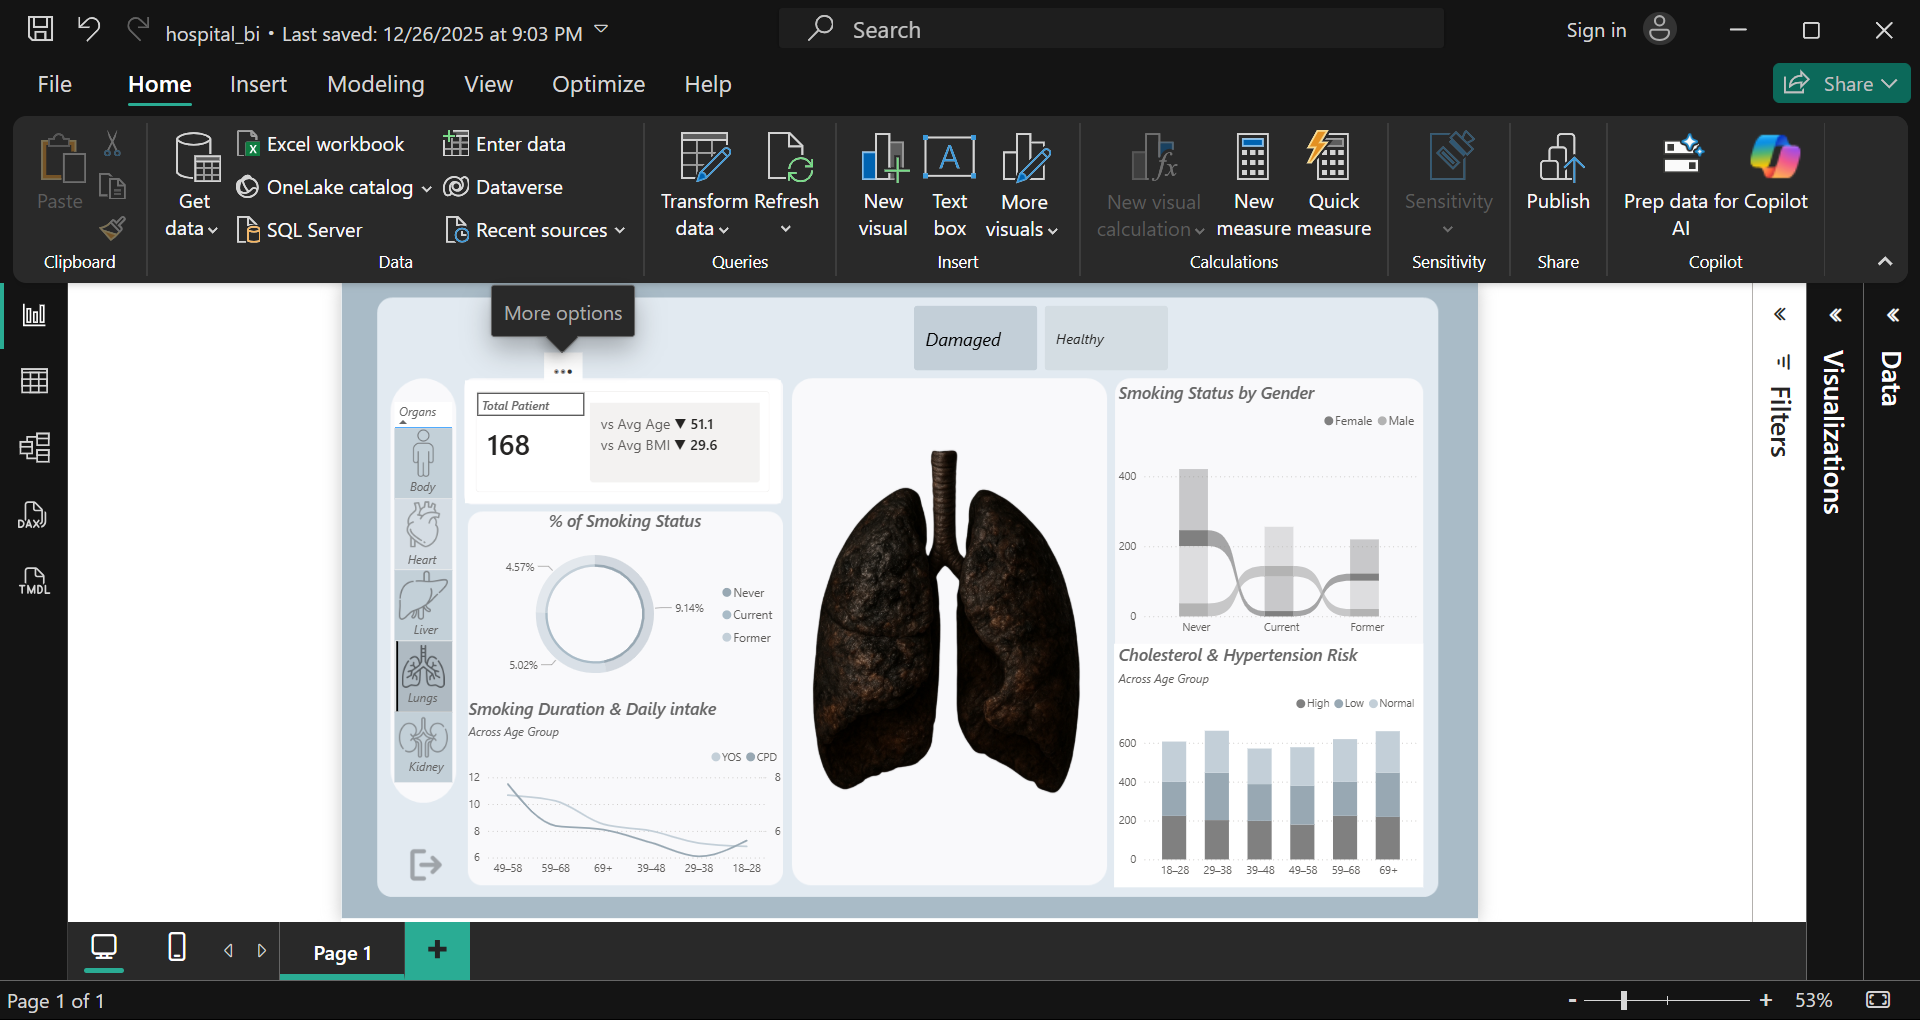

This screenshot's page, from the dashboard's own definition file:
{"tool":"powerbi","page":{"name":"Page 1","canvas":[1280,720],"ordinal":0},"visuals":[{"type":"cardVisual","fields":{"Data":["CountNonNull(health_dataset.Patient_ID)"]},"box":[134.2,104.1,365.7,148.1],"z":0},{"type":"textbox","box":[152.7,122.7,120.3,27.8],"z":1000},{"type":"advancedSlicerVisual","fields":{"Values":["condition.Organ_Condition"]},"box":[641.1,20.8,296.2,83.3],"z":2000},{"type":"tableEx","title":"Smoking Duration & Daily intake","fields":{"Values":["Organs.Icon_URL"]},"box":[55,128.6,71.4,439.3],"z":3000},{"type":"image","box":[499.9,104.9,363.2,574.8],"z":4000},{"type":"donutChart","title":"% of  Smoking Status","fields":{"Category":["health_dataset.Smoking_Status"],"Y":["CountNonNull(health_dataset.Smoking_Status)"]},"box":[138,254,362,212],"z":5000},{"type":"lineChart","title":"Smoking Duration & Daily intake","fields":{"Category":["health_dataset.Age Group"],"Y":["Avg(health_dataset.Years_of_Smoking)"],"Y2":["Avg(health_dataset.Cigarettes_Per_Day)"]},"box":[138,466,362,212],"z":6000},{"type":"ribbonChart","title":"Smoking Status by Gender","fields":{"Category":["health_dataset.Smoking_Status"],"Y":["CountNonNull(health_dataset.Patient_ID)"],"Series":["health_dataset.Gender"]},"box":[870,110,348,296],"z":7000},{"type":"columnChart","title":"Cholesterol & Hypertension Risk","fields":{"Category":["health_dataset.Age Group"],"Y":["Avg(health_dataset.Cholesterol_Level)"],"Series":["health_dataset.BP_Risk"]},"box":[870,406,348,274],"z":8000},{"type":"textbox","box":[66,216,52.8,27.8],"z":9000},{"type":"textbox","box":[70,298.6,44,29],"z":9001},{"type":"textbox","box":[55.7,375.7,78.6,32.9],"z":9002},{"type":"textbox","box":[66.2,452.5,52.5,28.8],"z":9003},{"type":"textbox","box":[60,530,72,28],"z":9004}]}

Visuals, with their boxes on the page's 1280x720 design canvas (x1, y1, x2, y2). These are canvas units, not pixel positions in the 1920x1020 screenshot, which may show the page scaled, cropped or inside an application window:
cardVisual - CountNonNull(health_dataset.Patient_ID): 134 104 500 252
textbox: 153 123 273 150
advancedSlicerVisual - condition.Organ_Condition: 641 21 937 104
"Smoking Duration & Daily intake" tableEx: 55 129 126 568
image: 500 105 863 680
"% of  Smoking Status" donutChart: 138 254 500 466
"Smoking Duration & Daily intake" lineChart: 138 466 500 678
"Smoking Status by Gender" ribbonChart: 870 110 1218 406
"Cholesterol & Hypertension Risk" columnChart: 870 406 1218 680
textbox: 66 216 119 244
textbox: 70 299 114 328
textbox: 56 376 134 409
textbox: 66 452 119 481
textbox: 60 530 132 558
